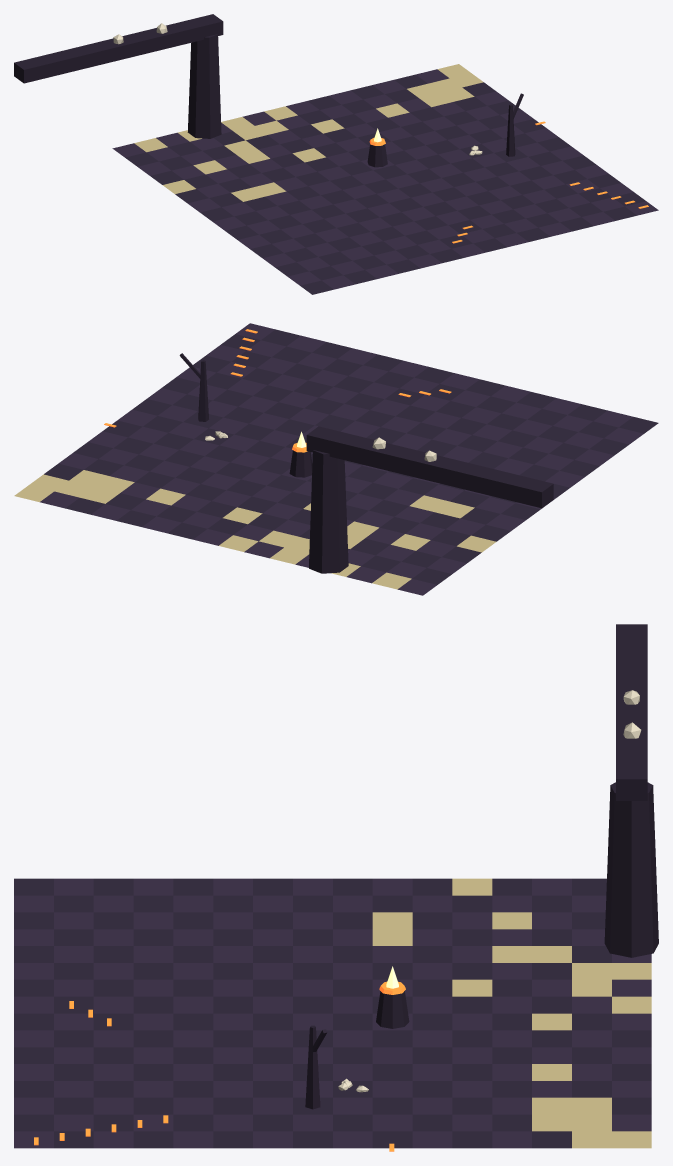
Rendered from chunk_6_22.glb.
3 renders of one model, top to bottom at view 1: azimuth 30°, elevation 25°; view 2: azimuth 150°, elevation 25°; view 3: azimuth 270°, elevation 25°, orthographic. The views are drawn at different scales.
Visible parts, largest first — view 1: chunk_6_22; view 2: chunk_6_22; view 3: chunk_6_22.
Part boxes in pixels (<box>): chunk_6_22: <box>14,14,658,294</box>; chunk_6_22: <box>14,323,658,595</box>; chunk_6_22: <box>14,624,658,1151</box>.
Size of the model in its own units: 20.81 by 5.43 by 16.18.
